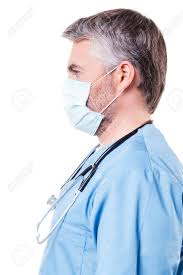with-mask: (57, 10, 165, 137)
